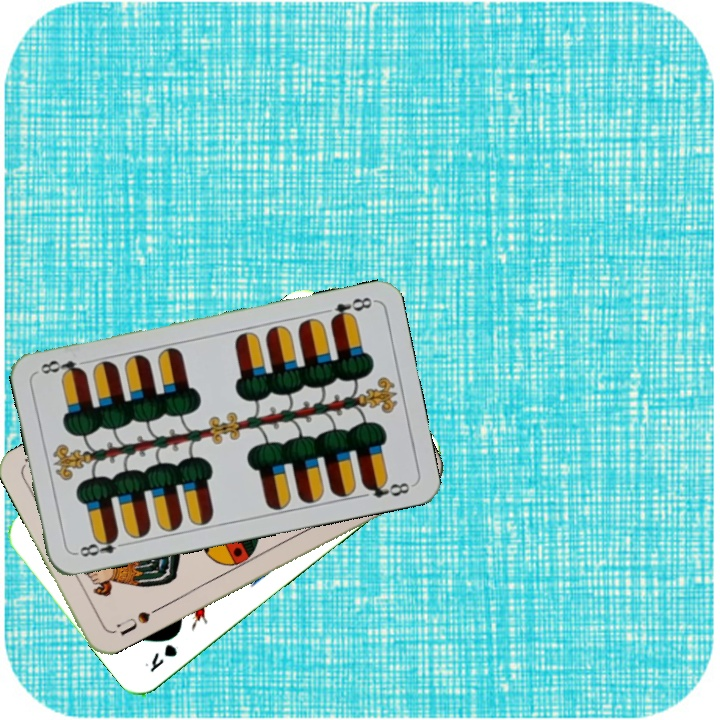E8: (71, 531, 130, 560), (326, 293, 376, 325)
GK: (140, 640, 180, 675)
SU: (113, 603, 163, 638)
